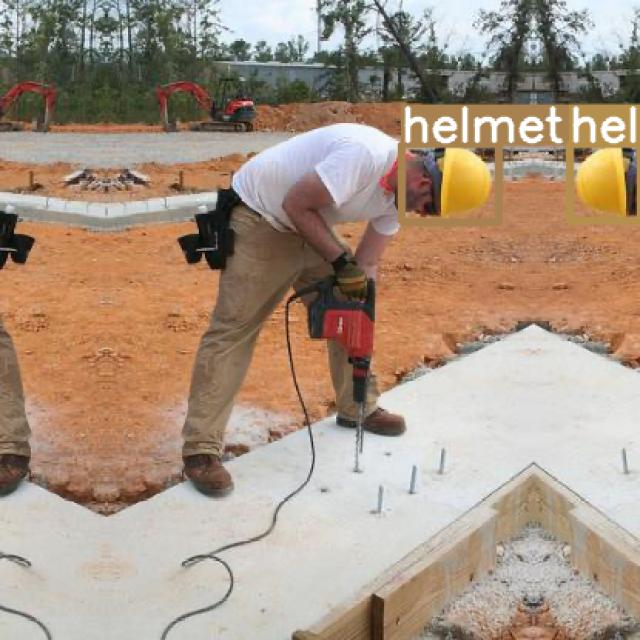helmet: (401, 143, 498, 222), (569, 143, 640, 220)
